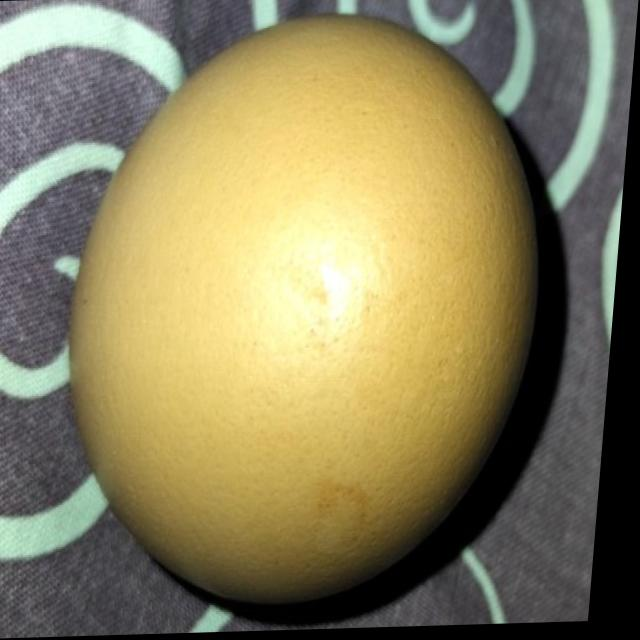fresh: (44, 0, 591, 637)
